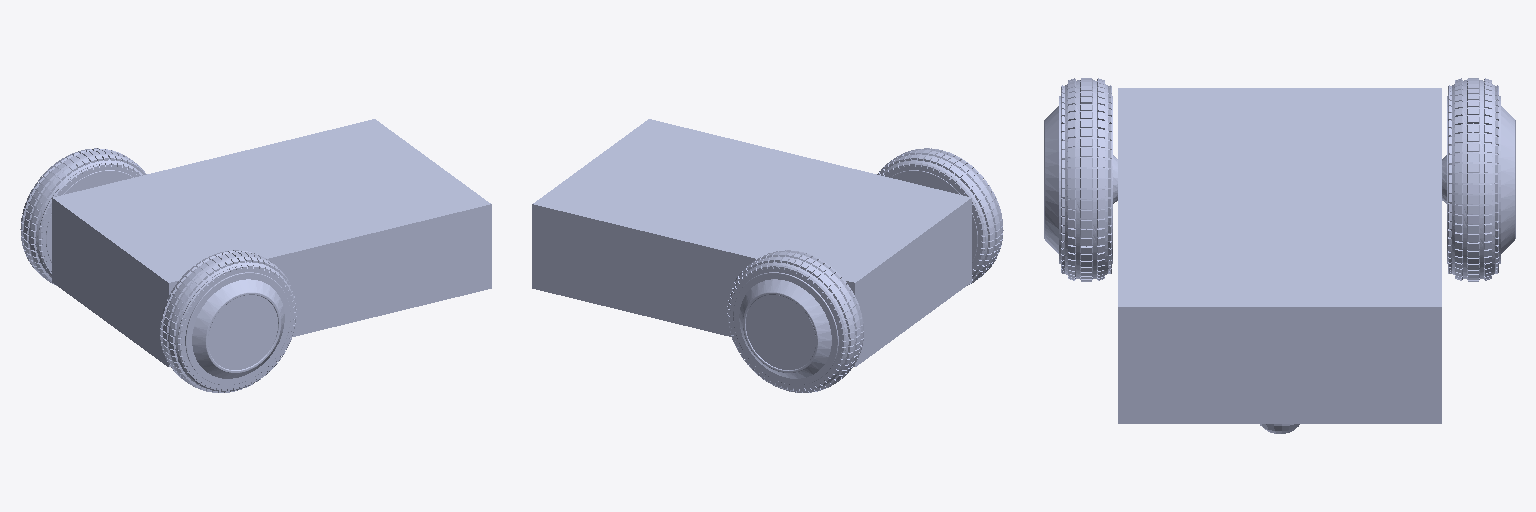
URDF robot description (trial_robot):
<?xml version="1.0" encoding="utf-8"?>
<!-- This URDF was automatically created by SolidWorks to URDF Exporter! Originally created by [author] ([email redacted]) 
     Commit Version: 1.5.1-0-g916b5db  Build Version: 1.5.7152.31018
     For more information, please see http://wiki.ros.org/sw_urdf_exporter -->
<robot
  name="trial_robot">
  <link
    name="base_link">
    <inertial>
      <origin
        xyz="0.0015469944415764 0 -0.0501831136277785"
        rpy="0 0 0" />
      <mass
        value="9.95078171509376" />
      <inertia
        ixx="0.0601227616494761"
        ixy="7.31244024412708E-18"
        ixz="0.000270499745566088"
        iyy="0.140876399625272"
        iyz="-2.39547571901342E-20"
        izz="0.184107375655444" />
    </inertial>
    <visual>
      <origin
        xyz="0 0 0"
        rpy="0 0 0" />
      <geometry>
        <mesh
          filename="package://trial_robot/meshes/base_link.STL" />
      </geometry>
      <material
        name="">
        <color
          rgba="0.792156862745098 0.819607843137255 0.933333333333333 1" />
      </material>
    </visual>
    <collision>
      <origin
        xyz="0 0 0"
        rpy="0 0 0" />
      <geometry>
        <mesh
          filename="package://trial_robot/meshes/base_link.STL" />
      </geometry>
    </collision>
  </link>
  <link
    name="left_link">
    <inertial>
      <origin
        xyz="-7.0432E-06 0.020264 -1.8312E-10"
        rpy="0 0 0" />
      <mass
        value="0.32782" />
      <inertia
        ixx="0.00076695"
        ixy="-1.3324E-07"
        ixz="5.8443E-13"
        iyy="0.0013622"
        iyz="-2.7163E-12"
        izz="0.00076693" />
    </inertial>
    <visual>
      <origin
        xyz="0 0 0"
        rpy="0 0 0" />
      <geometry>
        <mesh
          filename="package://trial_robot/meshes/left_link.STL" />
      </geometry>
      <material
        name="">
        <color
          rgba="0.79216 0.81961 0.93333 1" />
      </material>
    </visual>
    <collision>
      <origin
        xyz="0 0 0"
        rpy="0 0 0" />
      <geometry>
        <mesh
          filename="package://trial_robot/meshes/left_link.STL" />
      </geometry>
    </collision>
  </link>
  <joint
    name="left_joint"
    type="continuous">
    <origin
      xyz="-0.14 0.129 -0.05"
      rpy="0 0 0" />
    <parent
      link="base_link" />
    <child
      link="left_link" />
    <axis
      xyz="0 1 0" />
    <limit
      effort="1"
      velocity="1" />
  </joint>
  <link
    name="right_link">
    <inertial>
      <origin
        xyz="7.0096E-06 -0.020264 -6.8728E-07"
        rpy="0 0 0" />
      <mass
        value="0.32782" />
      <inertia
        ixx="0.00076695"
        ixy="-1.3261E-07"
        ixz="-1.7063E-09"
        iyy="0.0013622"
        iyz="1.3001E-08"
        izz="0.00076693" />
    </inertial>
    <visual>
      <origin
        xyz="0 0 0"
        rpy="0 0 0" />
      <geometry>
        <mesh
          filename="package://trial_robot/meshes/right_link.STL" />
      </geometry>
      <material
        name="">
        <color
          rgba="0.79216 0.81961 0.93333 1" />
      </material>
    </visual>
    <collision>
      <origin
        xyz="0 0 0"
        rpy="0 0 0" />
      <geometry>
        <mesh
          filename="package://trial_robot/meshes/right_link.STL" />
      </geometry>
    </collision>
  </link>
  <joint
    name="right_joint"
    type="continuous">
    <origin
      xyz="-0.14 -0.129 -0.05"
      rpy="0 0 0" />
    <parent
      link="base_link" />
    <child
      link="right_link" />
    <axis
      xyz="0 1 0" />
    <limit
      effort="1"
      velocity="1" />
  </joint>



  <gazebo>
  <plugin name="differential_drive_controller" filename="libgazebo_ros_diff_drive.so">

    <!-- Plugin update rate in Hz -->
    <updateRate>100.0</updateRate>

    <!-- Name of left joint, defaults to `left_joint` -->
    <leftJoint>left_joint</leftJoint>

    <!-- Name of right joint, defaults to `right_joint` -->
    <rightJoint>right_joint</rightJoint>

    <!-- The distance from the center of one wheel to the other, in meters, defaults to 0.34 m -->
    <wheelSeparation>0.3</wheelSeparation>

    <!-- Diameter of the wheels, in meters, defaults to 0.15 m -->
    <wheelDiameter>0.15</wheelDiameter>

    <!-- Wheel acceleration, in rad/s^2, defaults to 0.0 rad/s^2 -->
    <wheelAcceleration>1.0</wheelAcceleration>

    <!-- Maximum torque which the wheels can produce, in Nm, defaults to 5 Nm -->
    <wheelTorque>20</wheelTorque>

    <!-- Topic to receive geometry_msgs/Twist message commands, defaults to `cmd_vel` -->
    <commandTopic>cmd_vel</commandTopic>

    <!-- Topic to publish nav_msgs/Odometry messages, defaults to `odom` -->
    <odometryTopic>odom</odometryTopic>

    <!-- Odometry frame, defaults to `odom` -->
    <odometryFrame>odom</odometryFrame>

    <!-- Robot frame to calculate odometry from, defaults to `base_footprint` -->
    <robotBaseFrame>base_footprint</robotBaseFrame>

    <!-- Odometry source, 0 for ENCODER, 1 for WORLD, defaults to WORLD -->
    <odometrySource>1</odometrySource>

    <!-- Set to true to publish transforms for the wheel links, defaults to false -->
    <publishWheelTF>true</publishWheelTF>

    <!-- Set to true to publish transforms for the odometry, defaults to true -->
    <publishOdom>true</publishOdom>

    <!-- Set to true to publish sensor_msgs/JointState on /joint_states for the wheel joints, defaults to false -->
    <publishWheelJointState>true</publishWheelJointState>

    <!-- Set to true to swap right and left wheels, defaults to true -->
    <legacyMode>false</legacyMode>
  </plugin>
</gazebo>

</robot>

--- What the picture shows (computed from the rendered views, not written in the file) ---
Views: 3 orthographic renders of the robot side by side, from view 1: azimuth 30°, elevation 25°; view 2: azimuth 150°, elevation 25°; view 3: azimuth 270°, elevation 25°.
Model trial_robot with 3 links and 2 joints (2 continuous), rooted at base_link, posed all joints at 0.
Visible links, largest first — view 1: base_link, right_link, left_link; view 2: base_link, left_link, right_link; view 3: base_link, right_link, left_link.
Boxes of the visible links, <box> form: base_link: <box>52,119,491,366</box>; right_link: <box>160,250,296,392</box>; left_link: <box>20,148,146,285</box>; base_link: <box>532,119,971,366</box>; left_link: <box>727,250,863,392</box>; right_link: <box>877,148,1003,285</box>; base_link: <box>1118,88,1441,433</box>; right_link: <box>1044,78,1117,281</box>; left_link: <box>1442,78,1515,281</box>.
Size in the robot's own frame: 0.4189 by 0.364 by 0.1589 metres.
3 mesh visuals loaded from 3 distinct referenced files (3 binary STL).